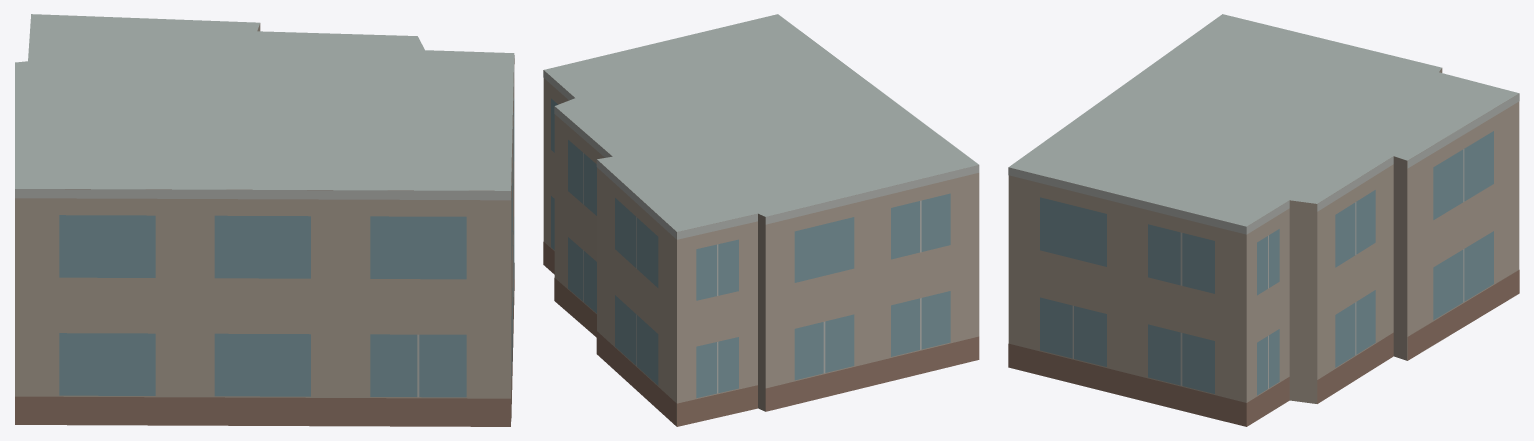
File: survey-upis-32954059.glb
3 renders of one model, left to right at view 1: azimuth 30°, elevation 25°; view 2: azimuth 150°, elevation 25°; view 3: azimuth 270°, elevation 25°, orthographic. The views are drawn at different scales.
Visible parts, largest first — view 1: survey-upis-32954059.tmp; view 2: survey-upis-32954059.tmp; view 3: survey-upis-32954059.tmp.
Boxes of the visible parts, x1,y1,x2,y2 form: survey-upis-32954059.tmp: (15,14,514,426); survey-upis-32954059.tmp: (543,14,979,426); survey-upis-32954059.tmp: (1008,14,1519,426).
Size of the model in its own units: 13.9 by 6.1 by 14.12.
